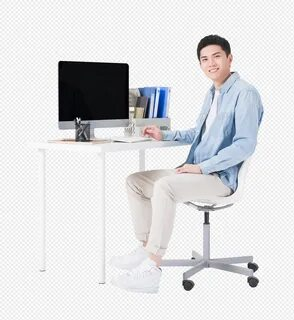awake: (107, 33, 264, 293)
